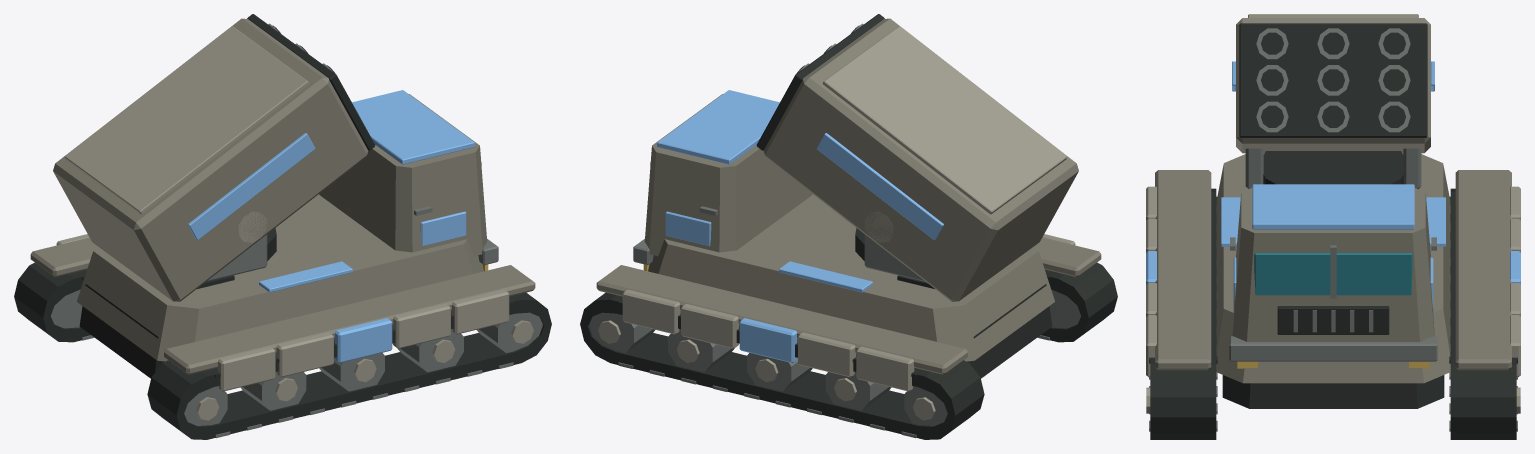
File: typhoon.glb
3 renders of one model, left to right at view 1: azimuth 30°, elevation 25°; view 2: azimuth 150°, elevation 25°; view 3: azimuth 270°, elevation 25°, orthographic. The views are drawn at different scales.
Parts seen in each view (by area): view 1: Hull, Turret; view 2: Hull, Turret; view 3: Hull, Turret.
Boxes of the visible parts, <box> form: Hull: <box>14,90,551,439</box>; Turret: <box>53,14,375,301</box>; Hull: <box>580,90,1117,439</box>; Turret: <box>756,14,1078,301</box>; Hull: <box>1146,153,1520,439</box>; Turret: <box>1232,14,1434,189</box>.
Bounding box in the file's own units: 2.61 × 1.95 × 2.
